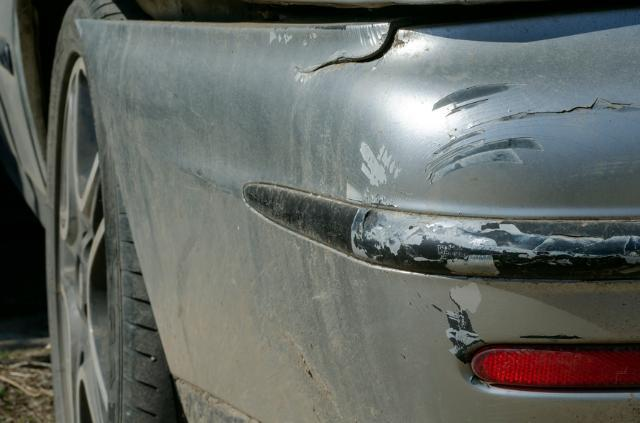Bumper: (271, 22, 640, 423)
